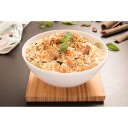briyani: (29, 37, 100, 69)
